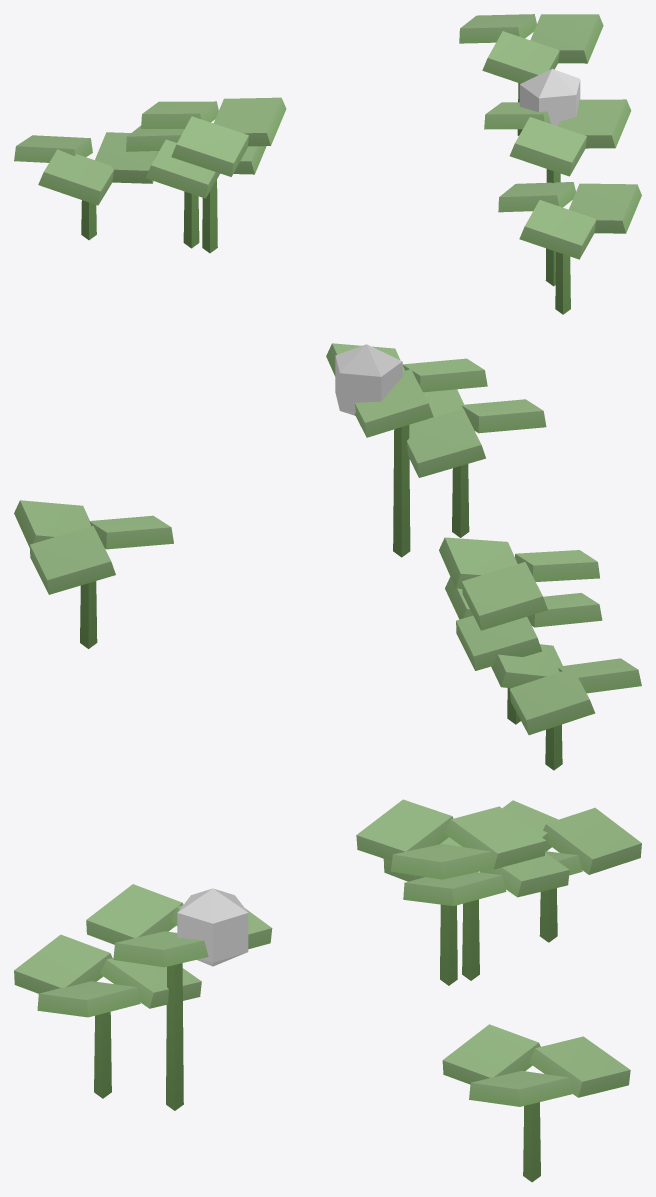
File: clover.glb
3 views of the same model, one above another, from view 1: azimuth 30°, elevation 25°; view 2: azimuth 150°, elevation 25°; view 3: azimuth 270°, elevation 25° (orthographic). The views are drawn at different scales.
Visible parts, largest first — view 1: clover; view 2: clover; view 3: clover.
Part boxes in pixels (box(x1,y1,x2,y2)): clover: box(14, 14, 641, 314); clover: box(14, 343, 641, 770); clover: box(14, 799, 641, 1182).
Size of the model in its own units: 0.8689 by 0.29 by 0.7277.
